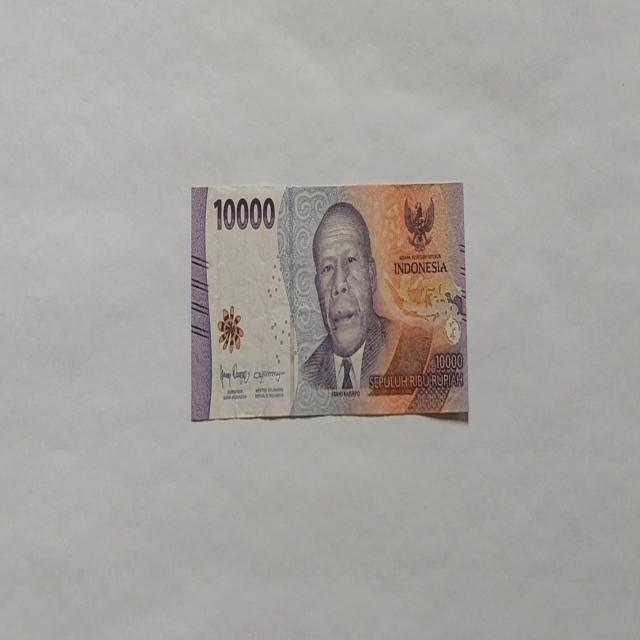Kertas: (191, 180, 469, 422)
